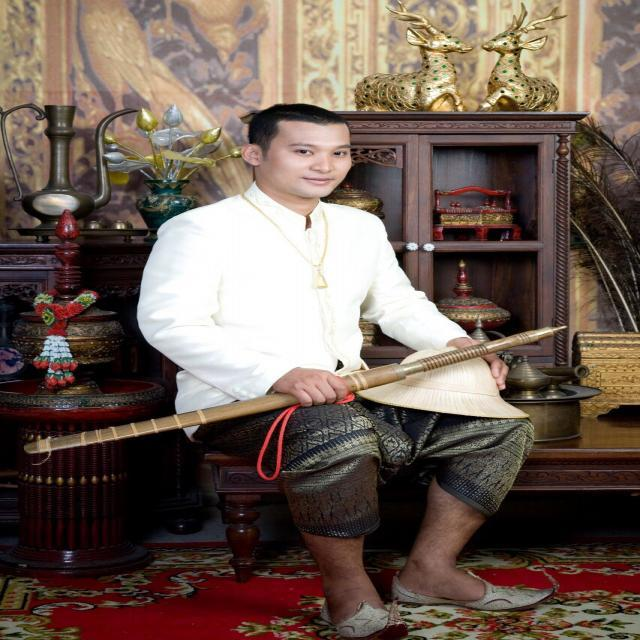long sword: (17, 317, 568, 459)
